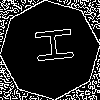H: (25, 25, 74, 66)
